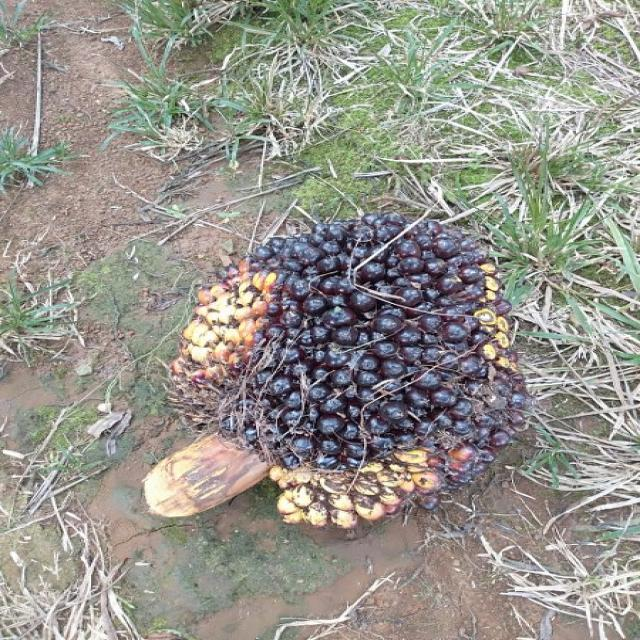fraksi 00: (168, 218, 540, 526)
